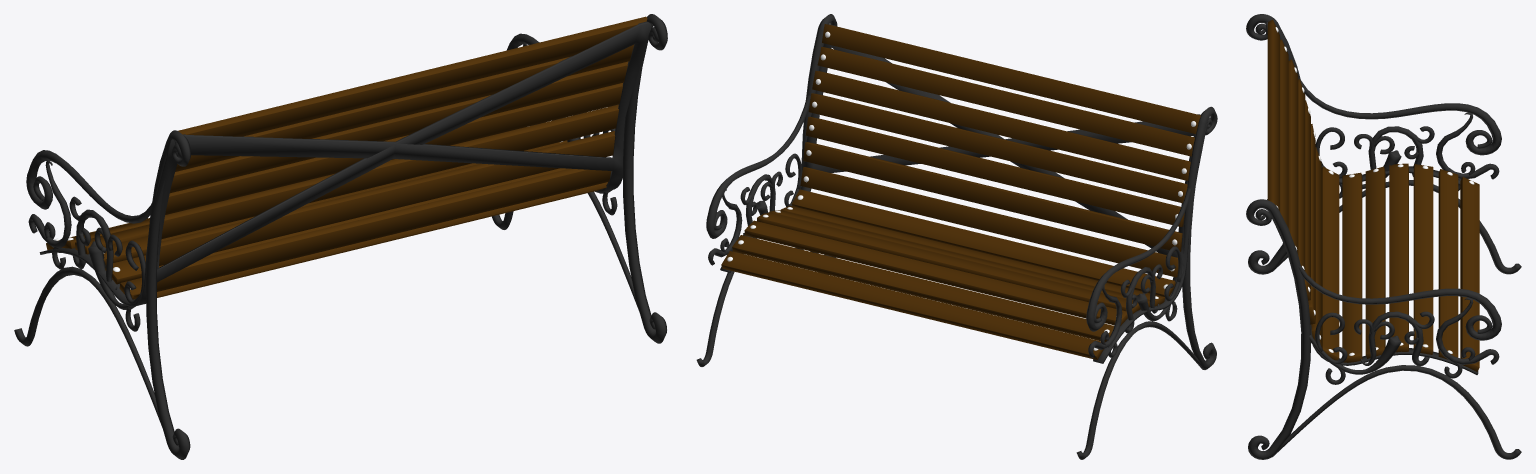
File: bench.gltf
3 views of the same model, side by side, from view 1: azimuth 30°, elevation 25°; view 2: azimuth 150°, elevation 25°; view 3: azimuth 270°, elevation 25° (orthographic). The views are drawn at different scales.
Visible parts, largest first — view 1: Bench; view 2: Bench; view 3: Bench.
Part boxes in pixels (x1=…): Bench: x1=14, y1=14, x2=667, y2=459; Bench: x1=696, y1=14, x2=1217, y2=459; Bench: x1=1246, y1=14, x2=1521, y2=459.
Size of the model in its own units: 299 by 190 by 182.
